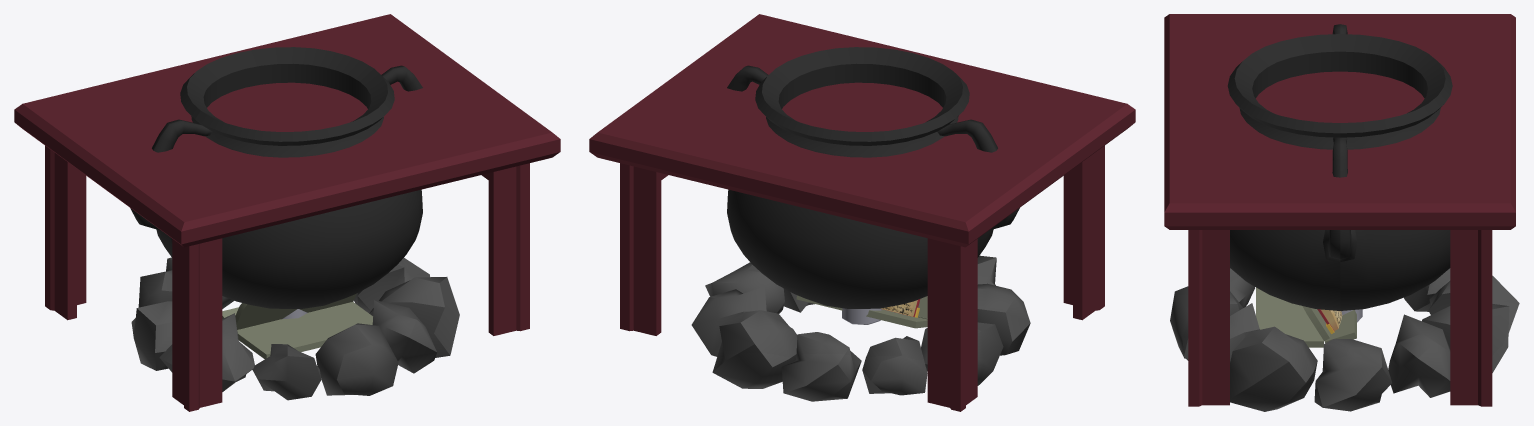
The model's file is obj_towerSet.fbx.
3 renders of one model, left to right at view 1: azimuth 30°, elevation 25°; view 2: azimuth 150°, elevation 25°; view 3: azimuth 270°, elevation 25°, orthographic. The views are drawn at different scales.
Parts seen in each view (by area): view 1: obj_towerTable, obj_cauldron, obj_stones, obj_lectern; view 2: obj_towerTable, obj_cauldron, obj_stones, obj_lectern, obj_jar; view 3: obj_towerTable, obj_cauldron, obj_stones, obj_lectern.
Part boxes in pixels (x1,y1,x2,y2): obj_towerTable: (14, 14, 560, 411); obj_cauldron: (130, 47, 422, 308); obj_stones: (131, 257, 459, 400); obj_lectern: (222, 293, 372, 358); obj_towerTable: (589, 14, 1135, 411); obj_cauldron: (727, 47, 1019, 308); obj_stones: (691, 255, 1030, 401); obj_lectern: (796, 295, 927, 328); obj_jar: (842, 308, 881, 324); obj_towerTable: (1164, 14, 1515, 406); obj_cauldron: (1227, 24, 1452, 310); obj_stones: (1170, 268, 1519, 411); obj_lectern: (1256, 287, 1356, 347).
Size of the model in its own units: 1.68 by 1.12 by 1.29.
